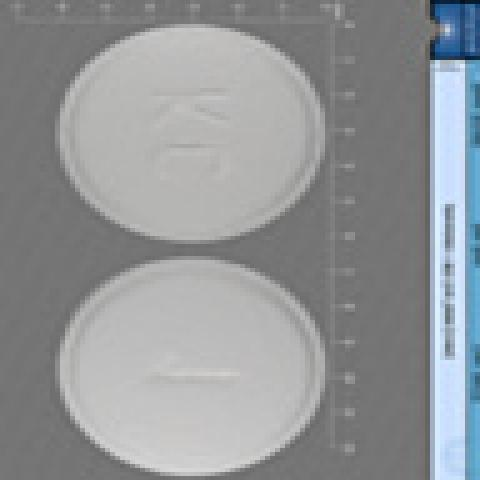Pill: (37, 8, 335, 249), (38, 236, 334, 476)
